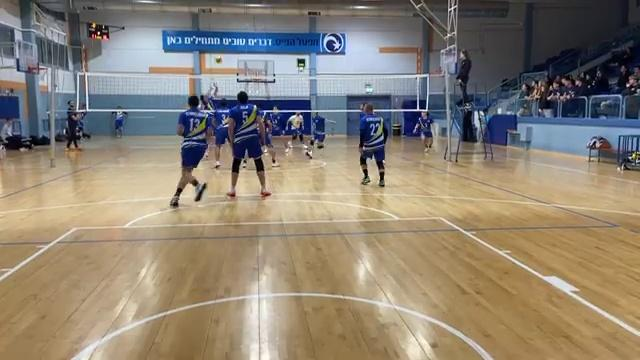ball: (213, 54, 225, 66)
